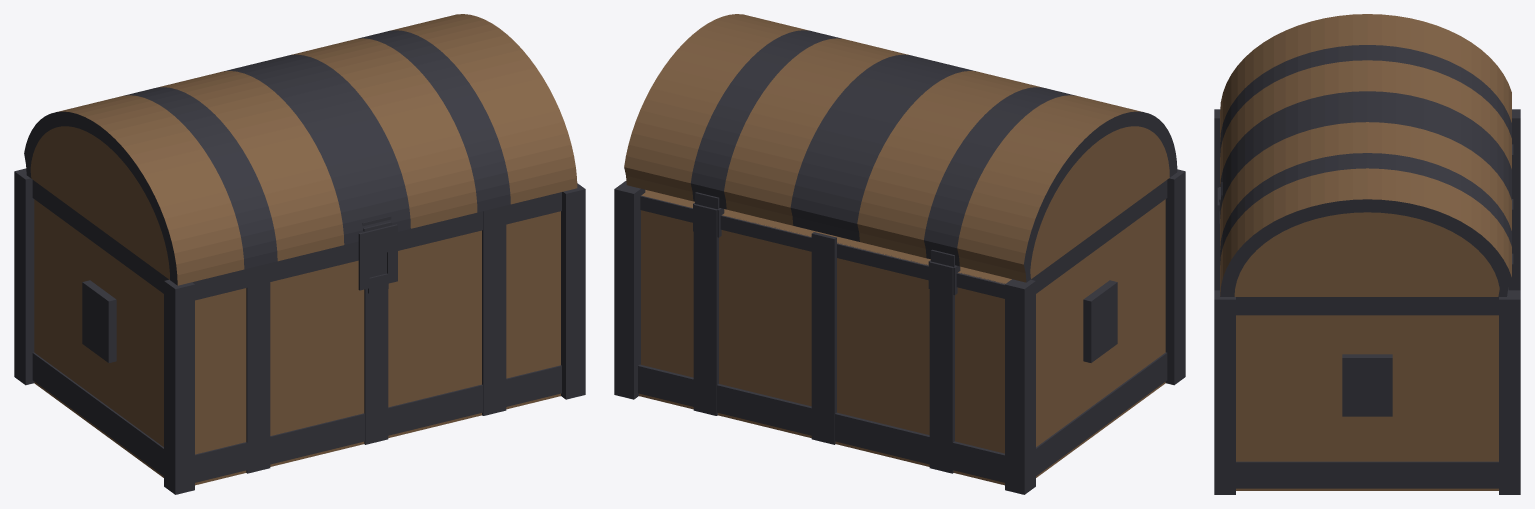
3 renders of one model, left to right at view 1: azimuth 30°, elevation 25°; view 2: azimuth 150°, elevation 25°; view 3: azimuth 270°, elevation 25°, orthographic. The views are drawn at different scales.
Parts seen in each view (by area): view 1: chest_body, domed_lid, hasp; view 2: chest_body, domed_lid; view 3: domed_lid, chest_body.
Part boxes in pixels (left/top/right/bottom): chest_body: left=14, top=168, right=585, bottom=494; domed_lid: left=24, top=14, right=577, bottom=285; hasp: left=358, top=221, right=397, bottom=293; chest_body: left=614, top=169, right=1185, bottom=494; domed_lid: left=624, top=14, right=1177, bottom=282; domed_lid: left=1220, top=14, right=1511, bottom=296; chest_body: left=1214, top=109, right=1520, bottom=494.
Size of the model in its own units: 0.626 by 0.45 by 0.426.
